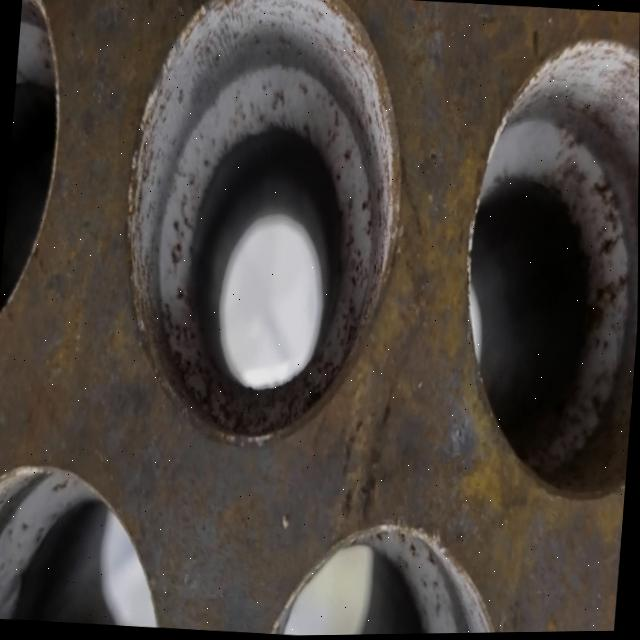Hole: (110, 0, 418, 460), (449, 30, 640, 511), (254, 512, 519, 637), (0, 460, 177, 630)
